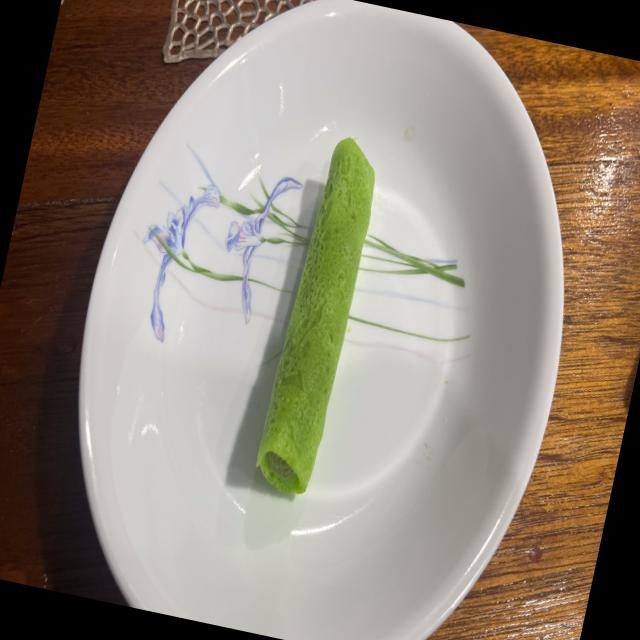Kuih-Ketayap: (256, 137, 374, 494)
